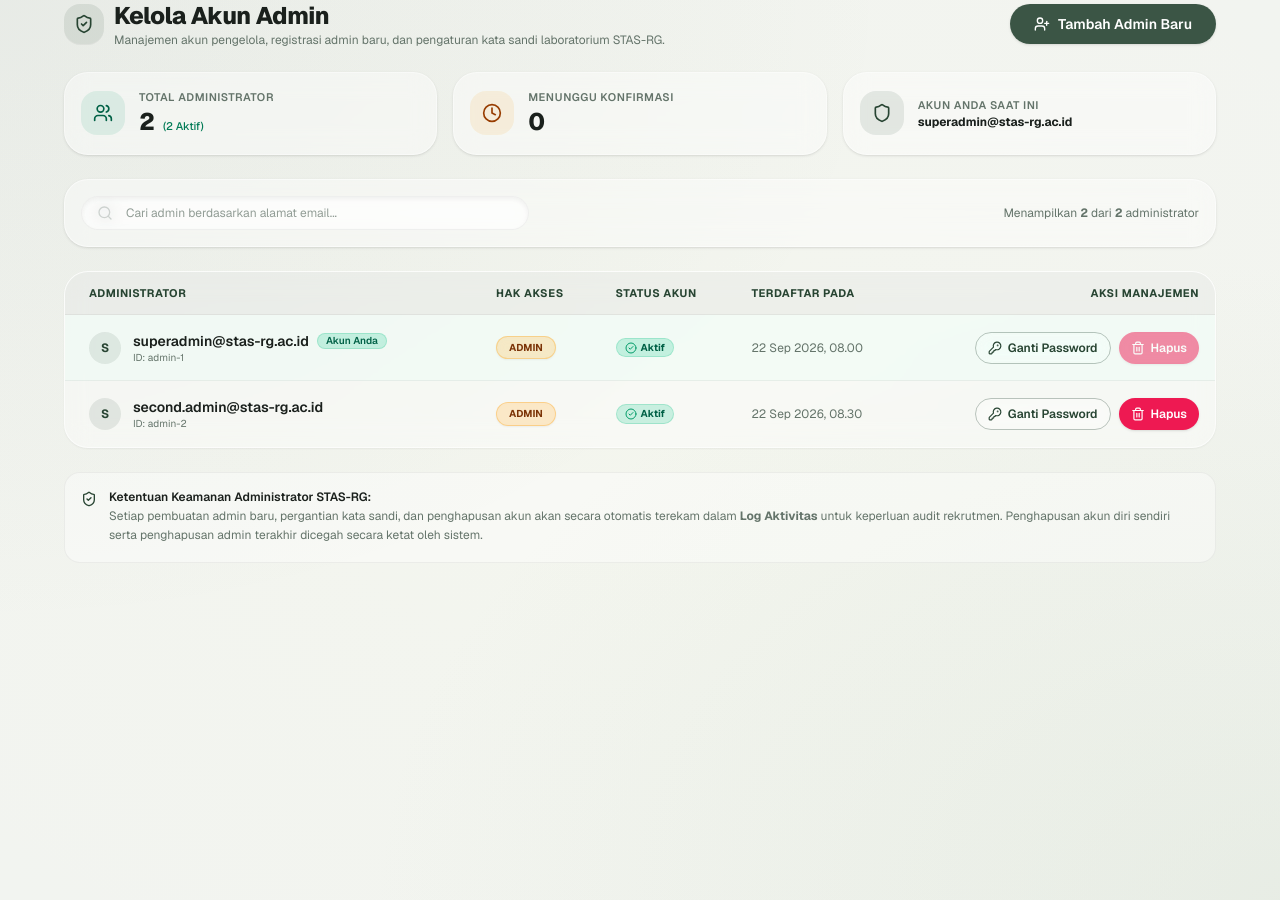
Test: app/admin/admins › opens reset password modal on click
expect the text "second.admin@stas-rg.ac.id" is shown: met, box [133,398,323,418]
Click the button "Ganti Password" in the row of "second.admin@stas-rg.ac.id" at [1043, 414], box [975,398,1111,430]
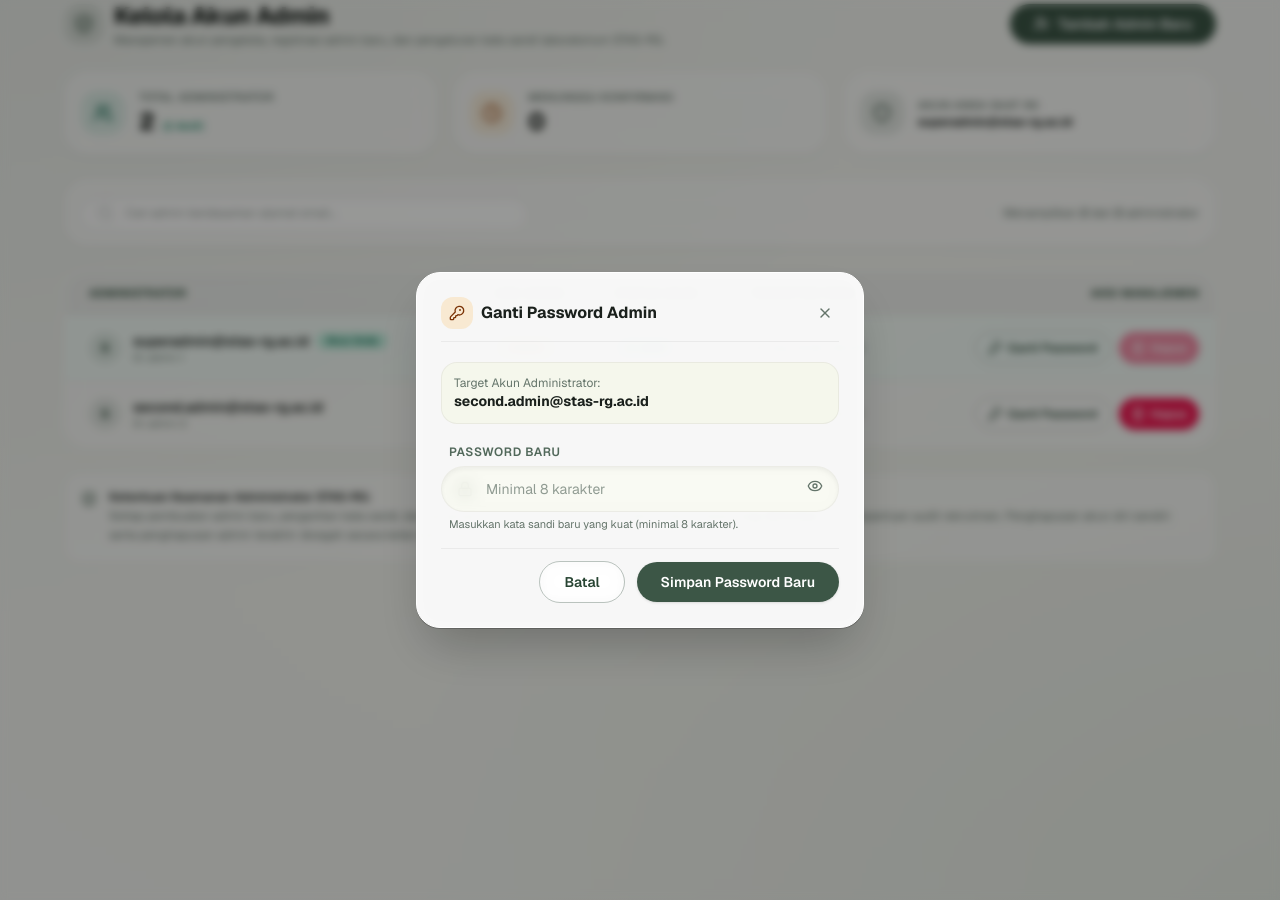
expect the heading "Ganti Password Admin" is shown: met, box [481,301,657,325]
expect the password field labelled "Password Baru" is shown: met, box [441,466,839,512]
